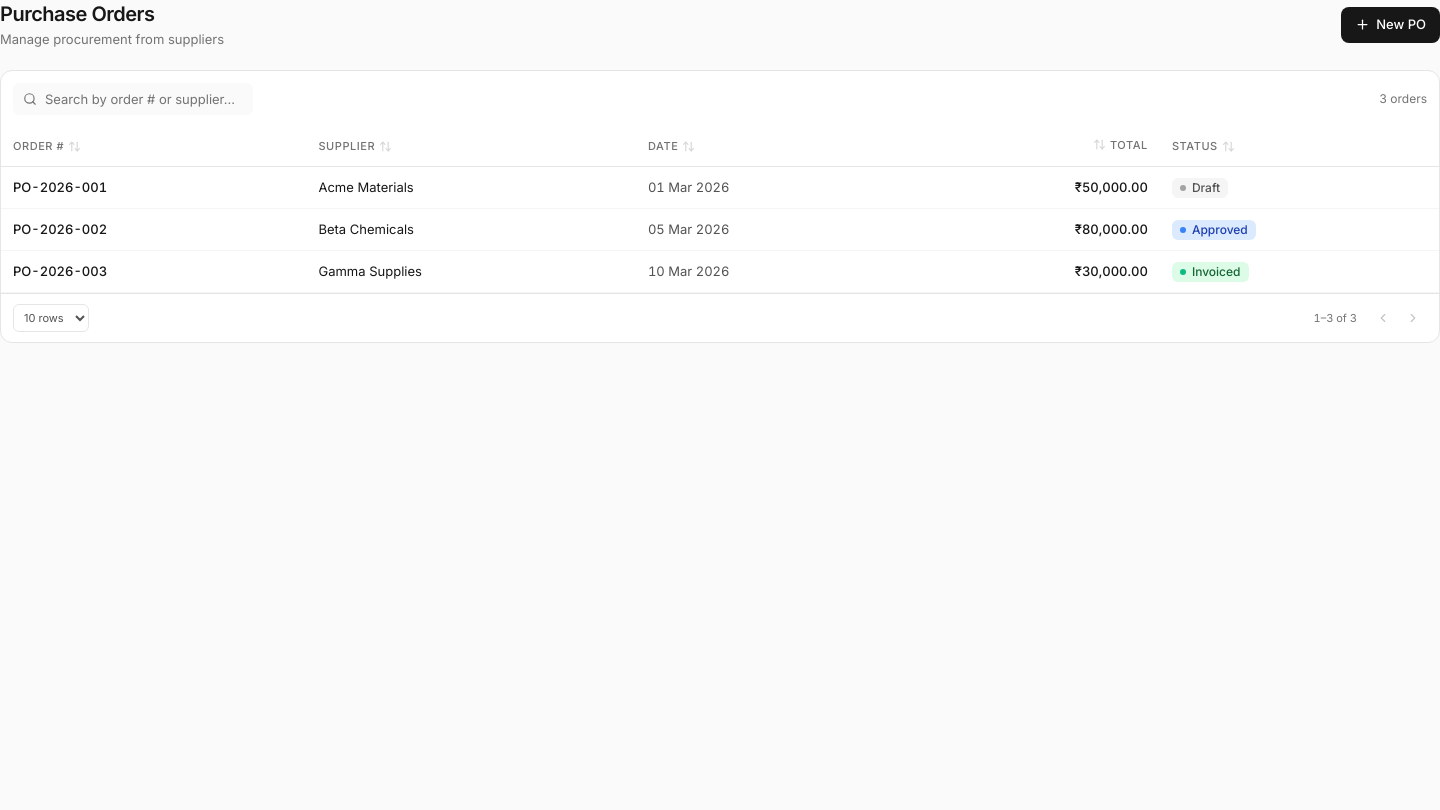
PurchaseOrdersPage › shows only Void action for APPROVED PO (VAL-P2P-004)
Click the text "PO-2026-002": x=60, y=228 [13,220,107,236]
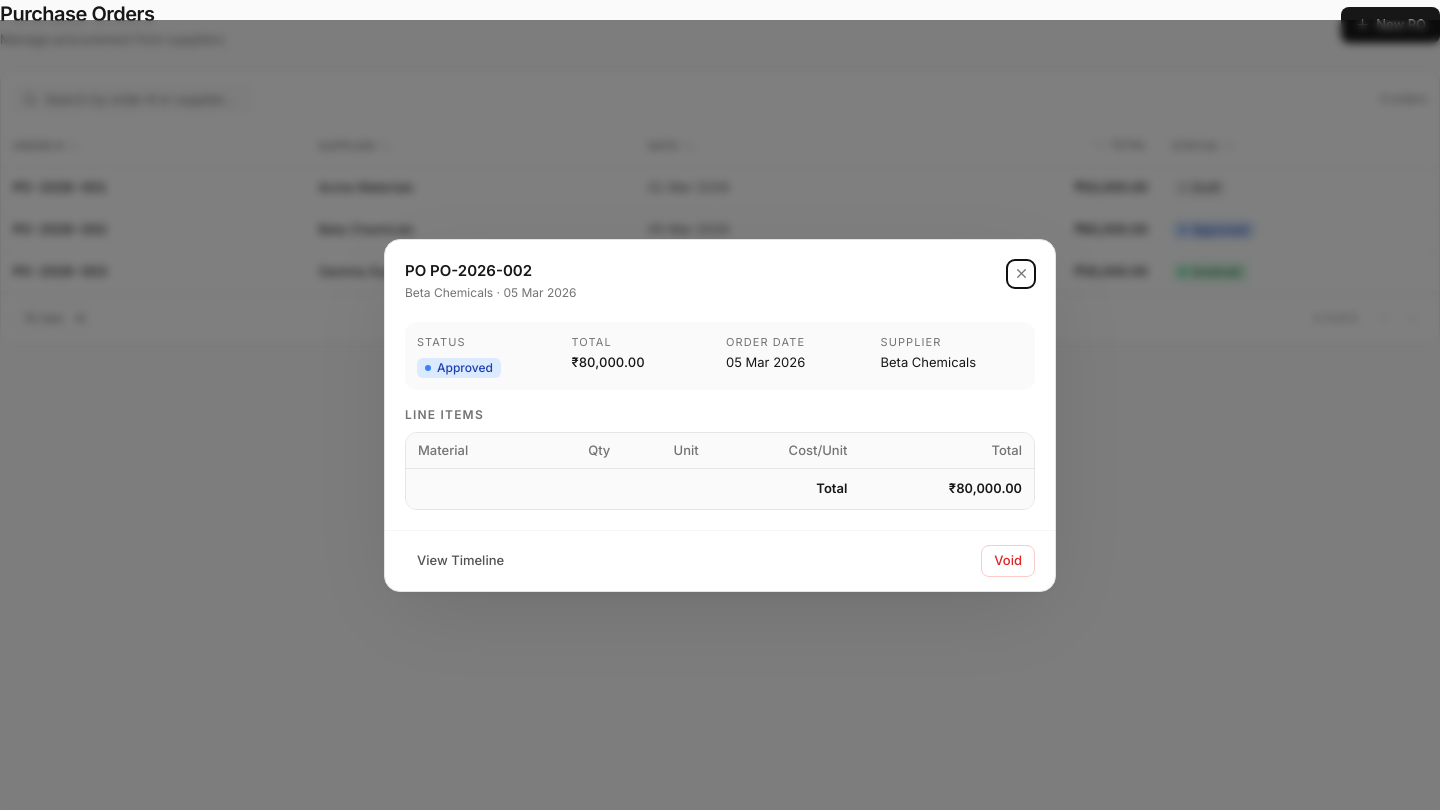
Result: the button "Void" is shown at [981,544,1035,576]
